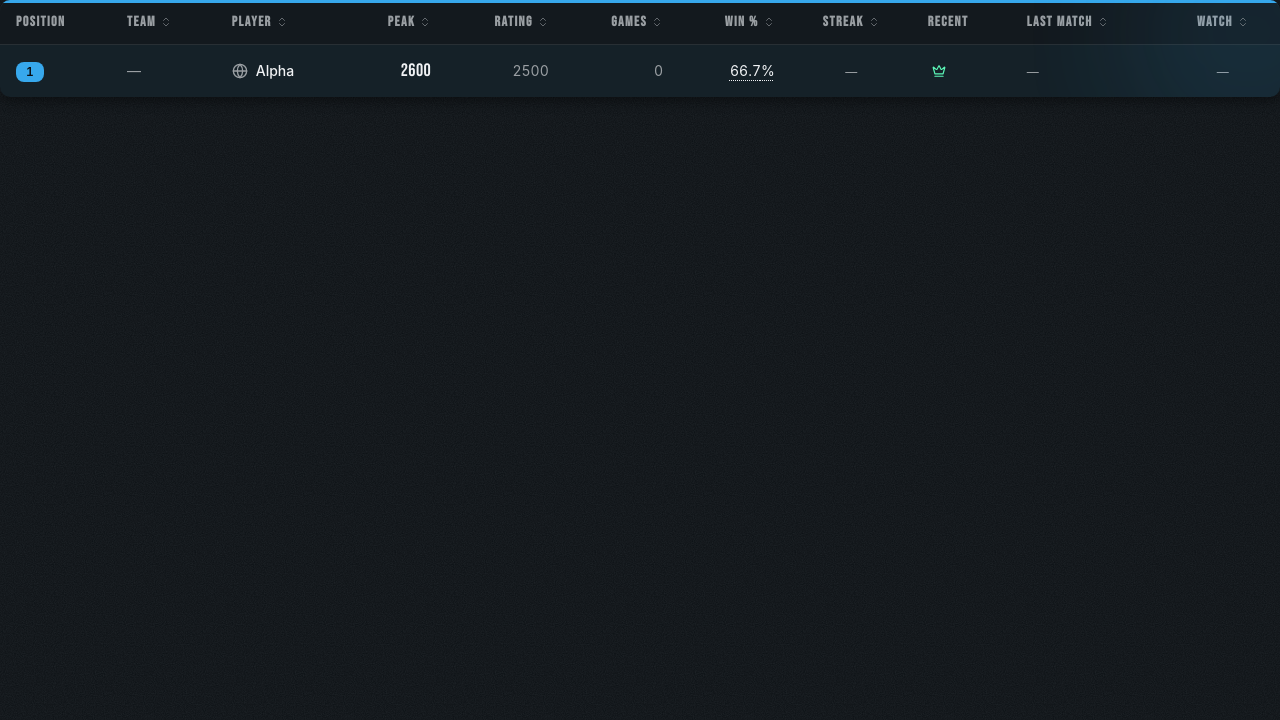
it: StandingsTable — recent matchup opponent name + streamer highlight (#349) › shows the player's own name and the opponent's name in the card
The width and height of the screenshot is (1280, 720).
Step 1. Click the button named "Won as Franks vs Mayans" → x=939, y=71, box [928,60,950,82]
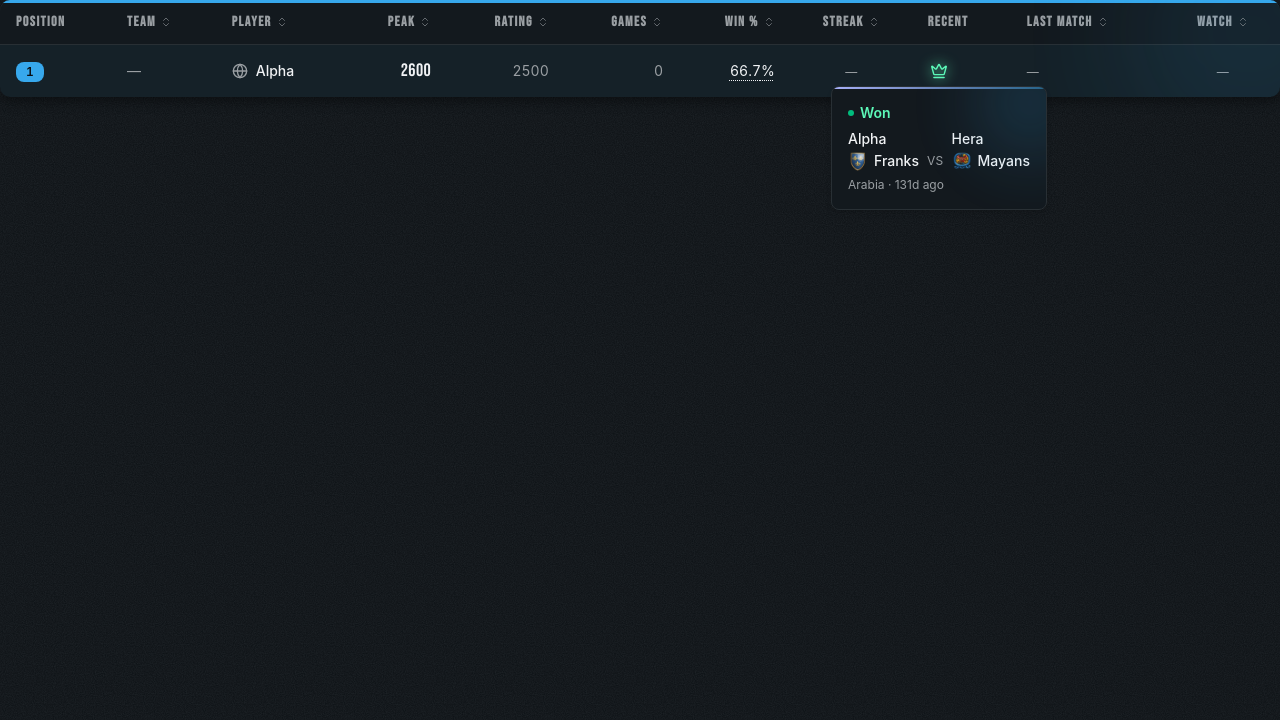
Expected: the text "Alpha" is shown 2 times, [256,61,294,81]; [848,130,886,147]
Expected: the text "Hera" is shown, [952,130,984,147]
